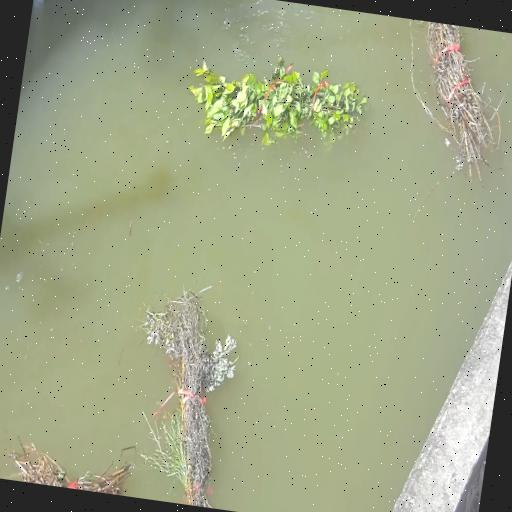twig: (115, 277, 254, 510), (184, 43, 374, 157), (392, 19, 512, 177), (0, 430, 139, 497)
